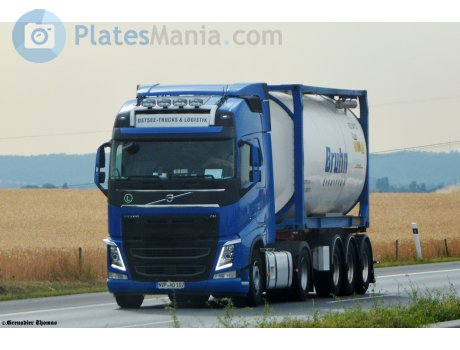License Plates: (156, 276, 188, 286)
